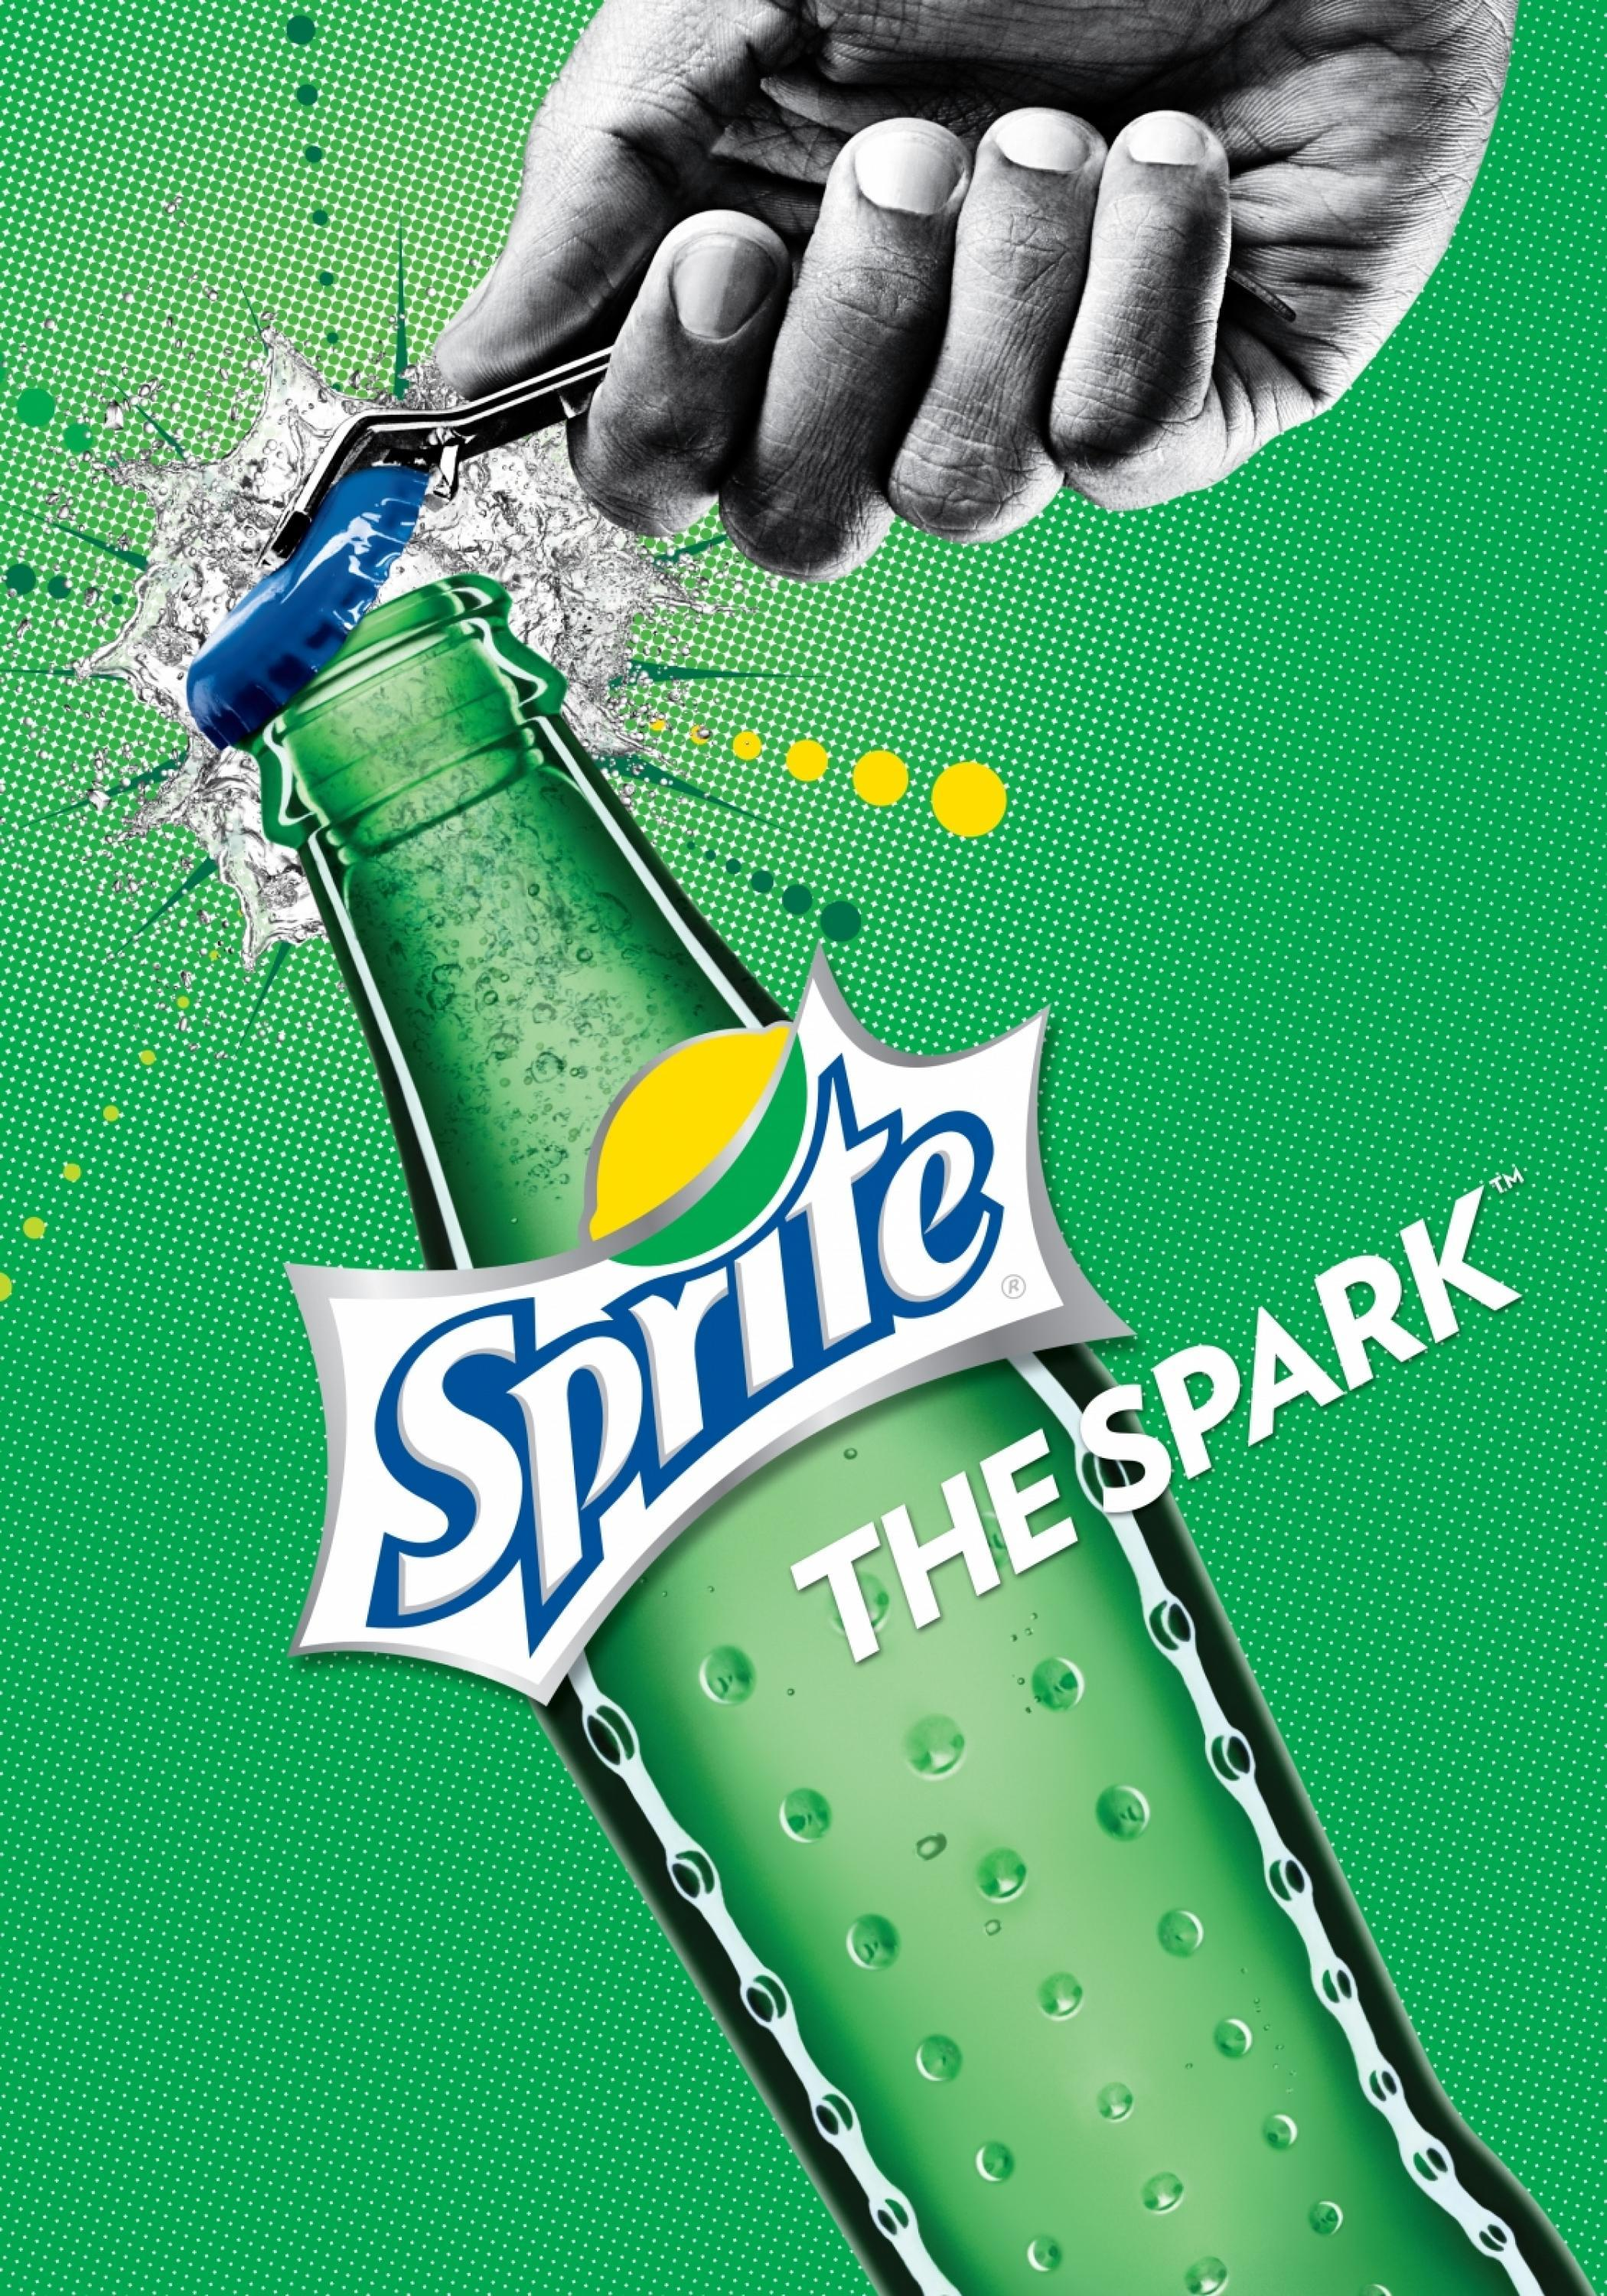sprite: (370, 1061, 1003, 1657), (386, 1061, 1003, 1657)
